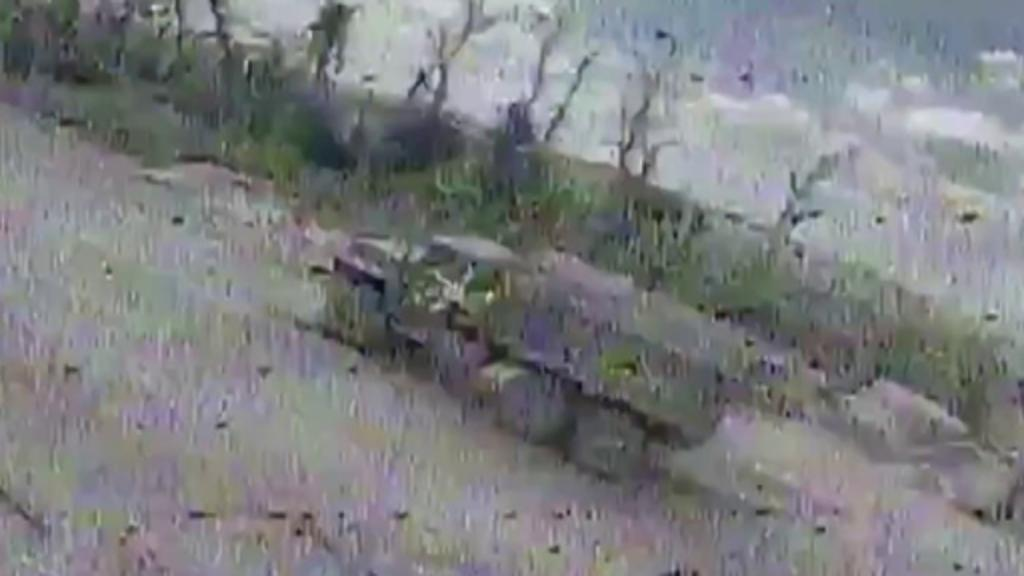TRUCK: (324, 228, 744, 482)
